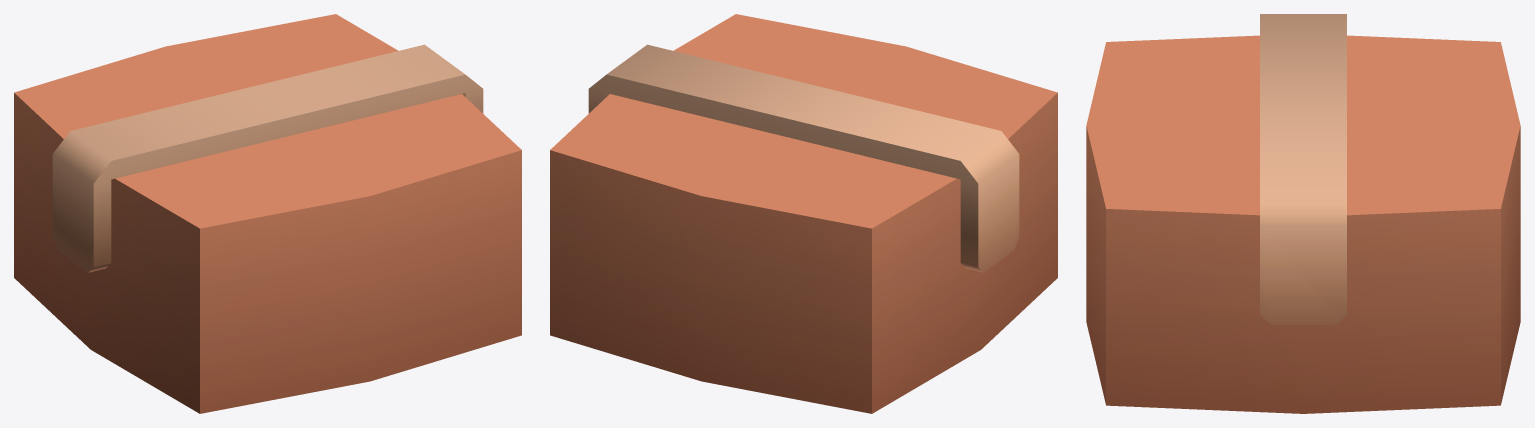
The model's file is box-large.glb.
The picture shows the model from 3 angles, left to right: view 1: azimuth 30°, elevation 25°; view 2: azimuth 150°, elevation 25°; view 3: azimuth 270°, elevation 25°; orthographic projection. The views are drawn at different scales.
Parts seen in each view (by area): view 1: box-large; view 2: box-large; view 3: box-large.
Part boxes in pixels (bbox=[...]): box-large: bbox=[14, 14, 521, 413]; box-large: bbox=[550, 14, 1057, 413]; box-large: bbox=[1086, 14, 1520, 413].
Size of the model in its own units: 1.1 by 0.5501 by 1.
Materials: 1 (1 with a texture image).
